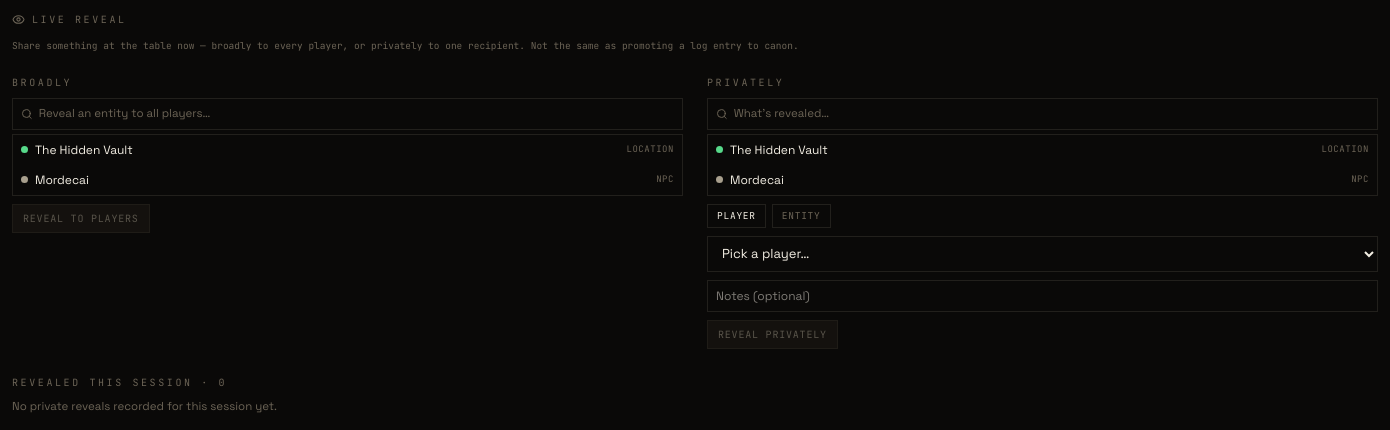
Scenario: SessionRevealPanel › disables the broad-reveal submit button until an entity is picked
Check: the button "Reveal to players" is disabled, box [12,204,150,232]
In the field with placeholder "Reveal an entity to all players…": (356, 114) [39,99,674,129], type "Mordecai"
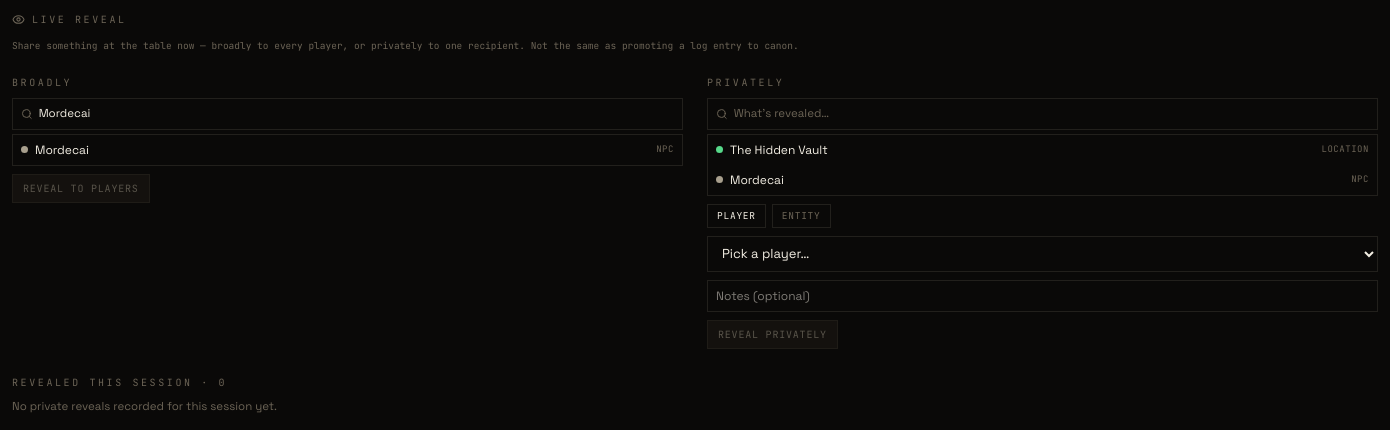
Click the 1st text "Mordecai": click(62, 150) [35,142,89,158]
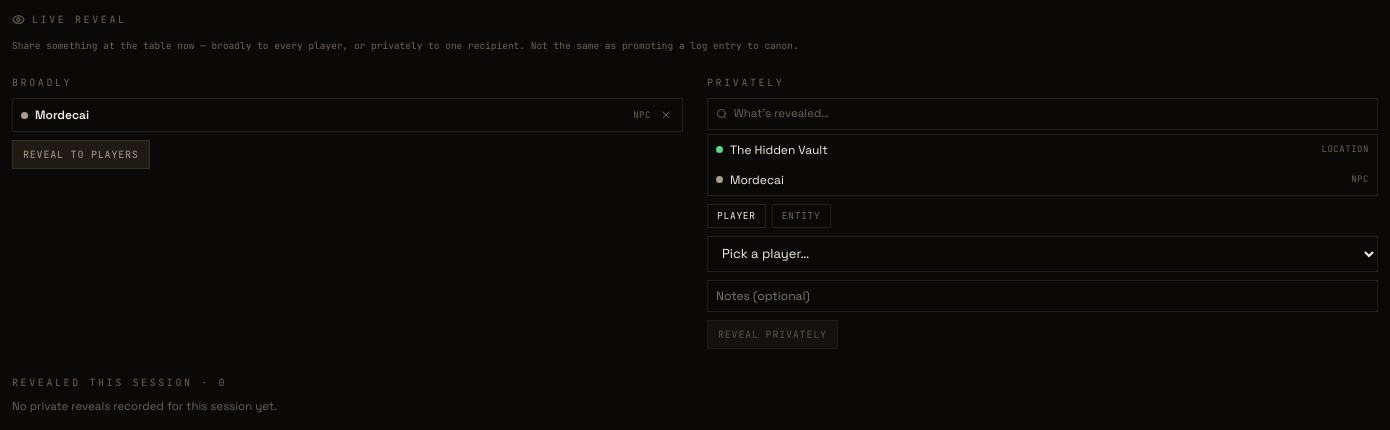
Check: the button "Reveal to players" is enabled, box [12,140,150,169]
